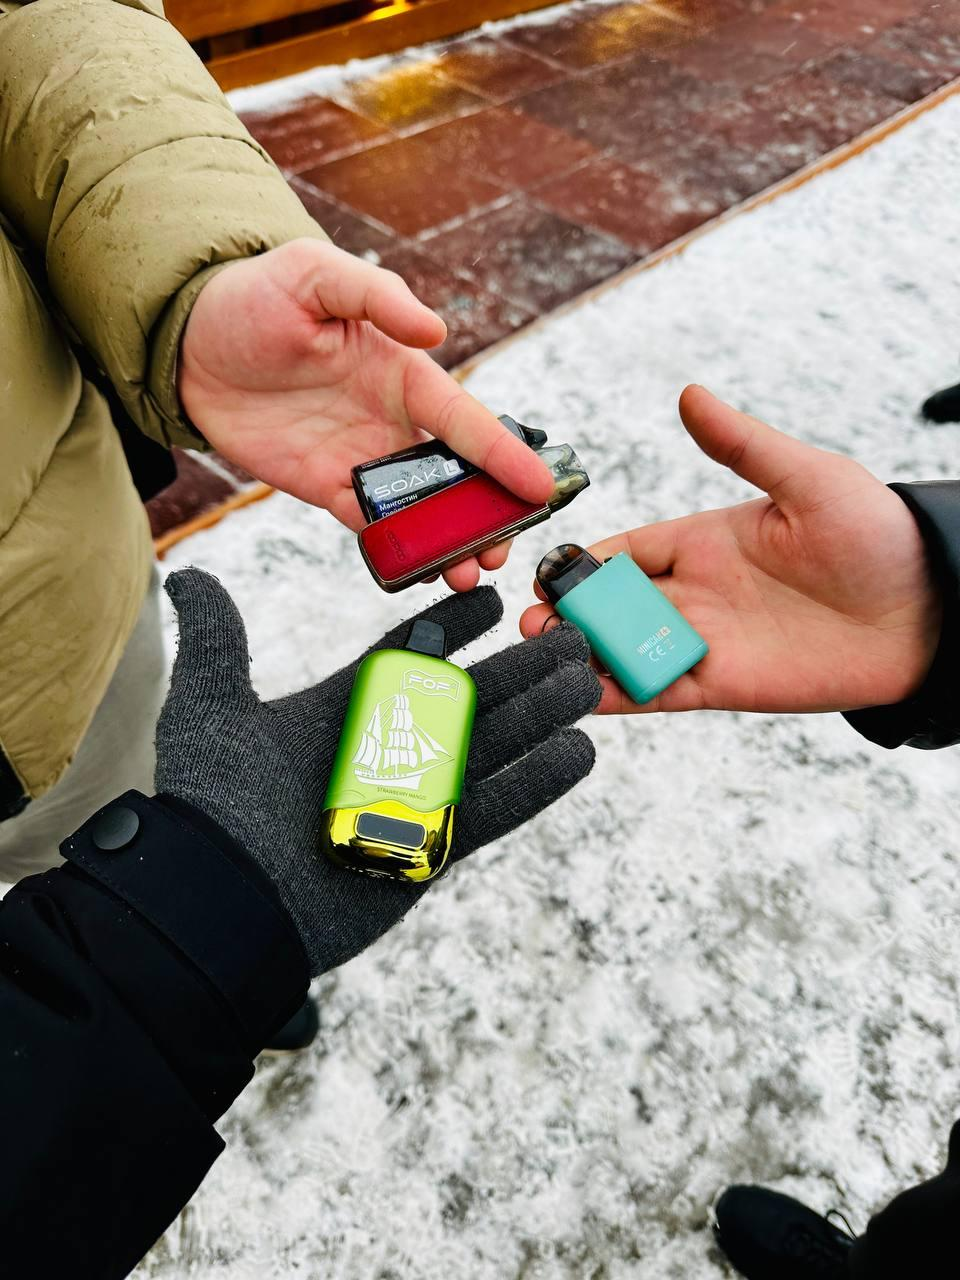Vape: (321, 619, 476, 883), (357, 442, 591, 595), (535, 545, 707, 703)
